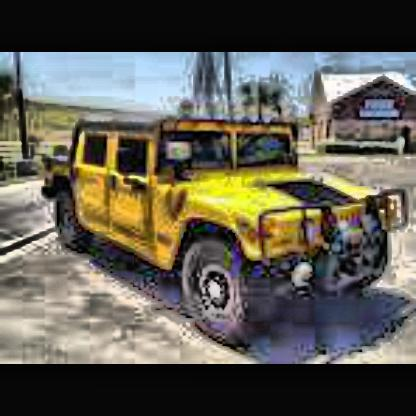AM General Hummer SUV 2000: (40, 103, 416, 353)
